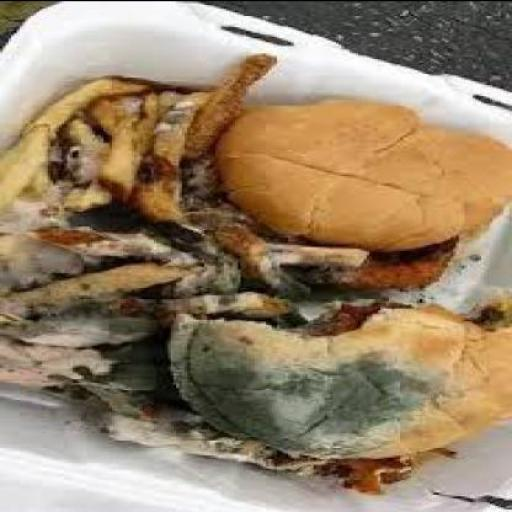biodegradable: (170, 282, 511, 456), (220, 91, 511, 249), (92, 385, 330, 464), (134, 87, 218, 244), (2, 339, 162, 404), (20, 73, 167, 139), (190, 50, 283, 154), (3, 257, 190, 307), (296, 231, 462, 287), (321, 445, 459, 492), (6, 299, 160, 341), (2, 229, 98, 293), (204, 222, 286, 290), (123, 287, 297, 319), (3, 119, 59, 212), (101, 112, 143, 203), (266, 237, 375, 264), (132, 90, 171, 156), (24, 153, 62, 220), (184, 147, 222, 214), (331, 297, 403, 331), (84, 91, 129, 134), (61, 178, 117, 210)
